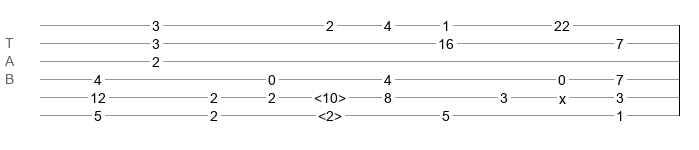0: (268, 72, 276, 82), (558, 72, 566, 82)
1: (442, 18, 450, 28), (616, 108, 624, 118)
12: (90, 90, 106, 100)
16: (438, 36, 454, 46)
2: (152, 54, 160, 64), (210, 90, 218, 100), (210, 108, 218, 118), (268, 90, 276, 100), (326, 18, 334, 28)
22: (554, 18, 570, 28)
3: (152, 18, 160, 28), (152, 36, 160, 46), (500, 90, 508, 100), (616, 90, 624, 100)
4: (94, 72, 102, 82), (384, 72, 392, 82), (384, 18, 392, 28)
5: (94, 108, 102, 118), (442, 108, 450, 118)
7: (616, 36, 624, 46), (616, 72, 624, 82)
8: (384, 90, 392, 100)
harmonic: (314, 90, 346, 100), (318, 108, 342, 118)
x: (559, 91, 566, 99)
